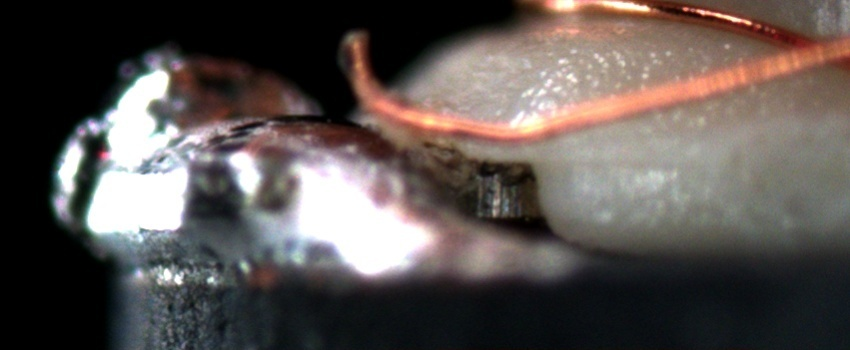DL: (562, 144, 684, 185)
